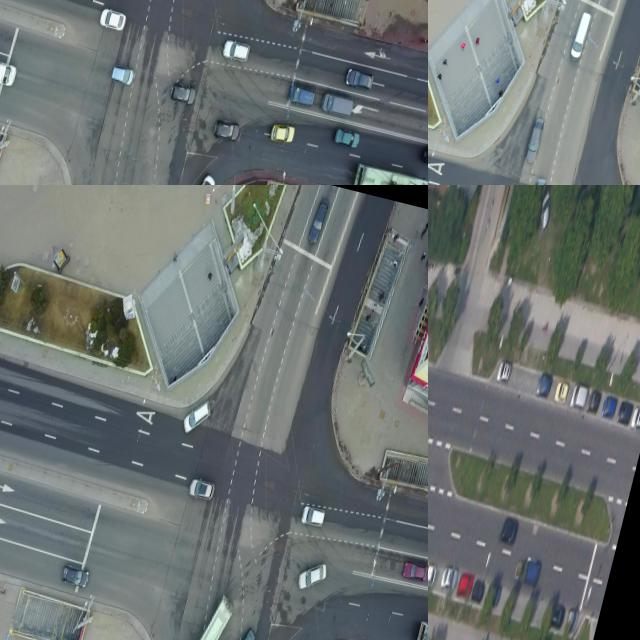UAI: (521, 114, 547, 168), (180, 395, 213, 437), (306, 195, 331, 246), (296, 558, 329, 595), (533, 187, 556, 237), (59, 563, 91, 589), (186, 475, 216, 502), (220, 38, 251, 64), (98, 7, 128, 33), (211, 117, 241, 143), (344, 67, 375, 92), (108, 62, 136, 89), (169, 81, 198, 107), (286, 83, 316, 108), (332, 126, 361, 151), (268, 120, 296, 145), (400, 559, 428, 583), (300, 504, 326, 528), (499, 517, 520, 545), (522, 558, 542, 586), (569, 382, 589, 410), (439, 565, 459, 592), (456, 569, 475, 597), (226, 624, 257, 640), (615, 399, 633, 425), (535, 372, 553, 398), (600, 393, 618, 418), (470, 577, 486, 603), (550, 603, 566, 629), (586, 388, 602, 414), (553, 380, 569, 404), (496, 360, 512, 383), (564, 608, 579, 632), (514, 558, 526, 580), (629, 406, 640, 429), (428, 560, 437, 586)
car: (166, 587, 236, 640), (351, 161, 428, 185)
harvester: (568, 10, 593, 63), (319, 90, 355, 119), (0, 52, 19, 89), (181, 170, 217, 185), (420, 142, 428, 171)
